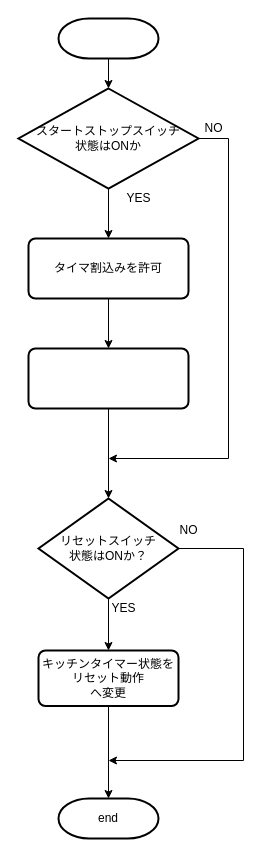
Some shapes in this 269 by 856 pixel diagram are drawn without their labels. Each missing label, with the box of its shape:
カウントダウン 一時停止: (57, 17, 159, 59)
キッチンタイマー状態を カウントダウン中 へ変更: (27, 347, 189, 409)
